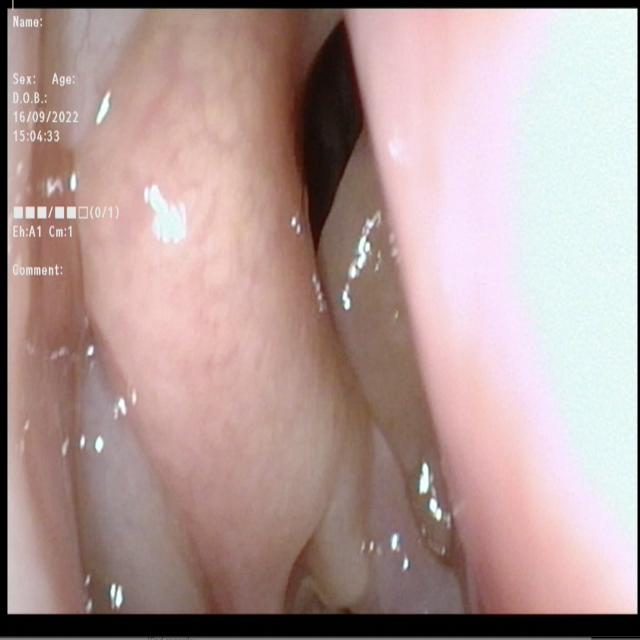POLYPS: (258, 142, 382, 622), (33, 358, 139, 624), (254, 496, 409, 640)
